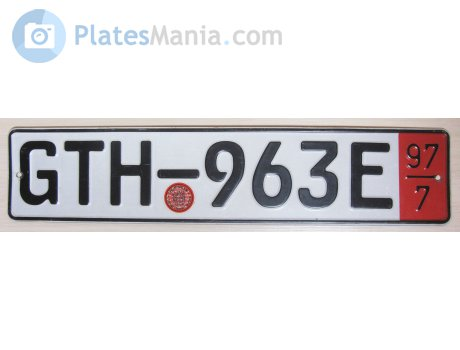License Plates: (11, 130, 395, 210)
